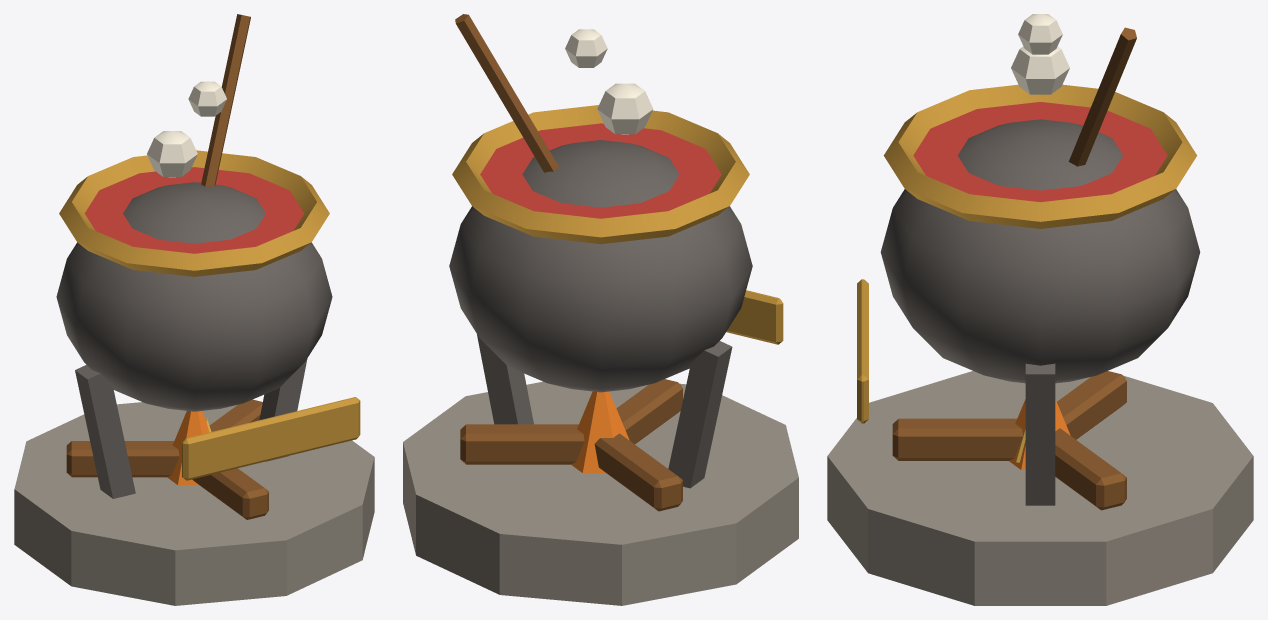
Rendered from PR_Station_Kazan_T2.fbx.
3 views of the same model, side by side, from view 1: azimuth 30°, elevation 25°; view 2: azimuth 150°, elevation 25°; view 3: azimuth 270°, elevation 25° (orthographic). The views are drawn at different scales.
Visible parts, largest first — view 1: PR_Station_Kazan_T2; view 2: PR_Station_Kazan_T2; view 3: PR_Station_Kazan_T2.
Part boxes in pixels (x1,y1,x2,y2): PR_Station_Kazan_T2: (14, 14, 374, 605); PR_Station_Kazan_T2: (403, 14, 798, 605); PR_Station_Kazan_T2: (827, 14, 1253, 605).
Bounding box in the file's own units: 0.6848 × 1.01 × 0.72.
Materials: 1 (1 with a texture image).
